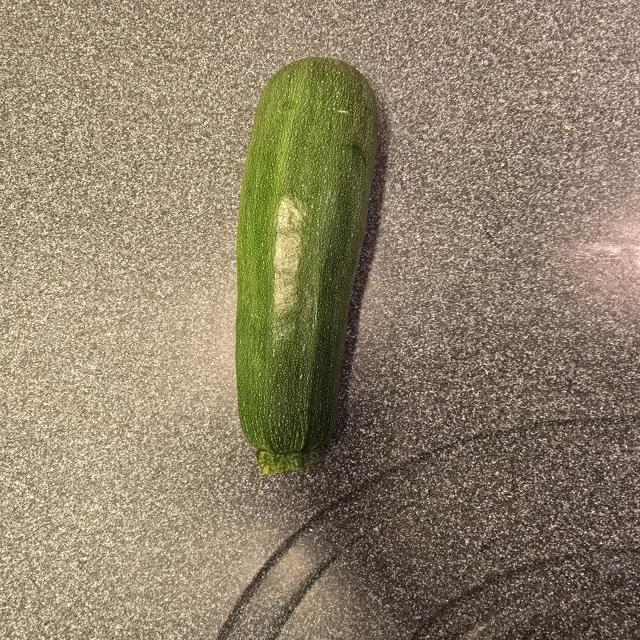Courgette: (222, 44, 392, 486)
